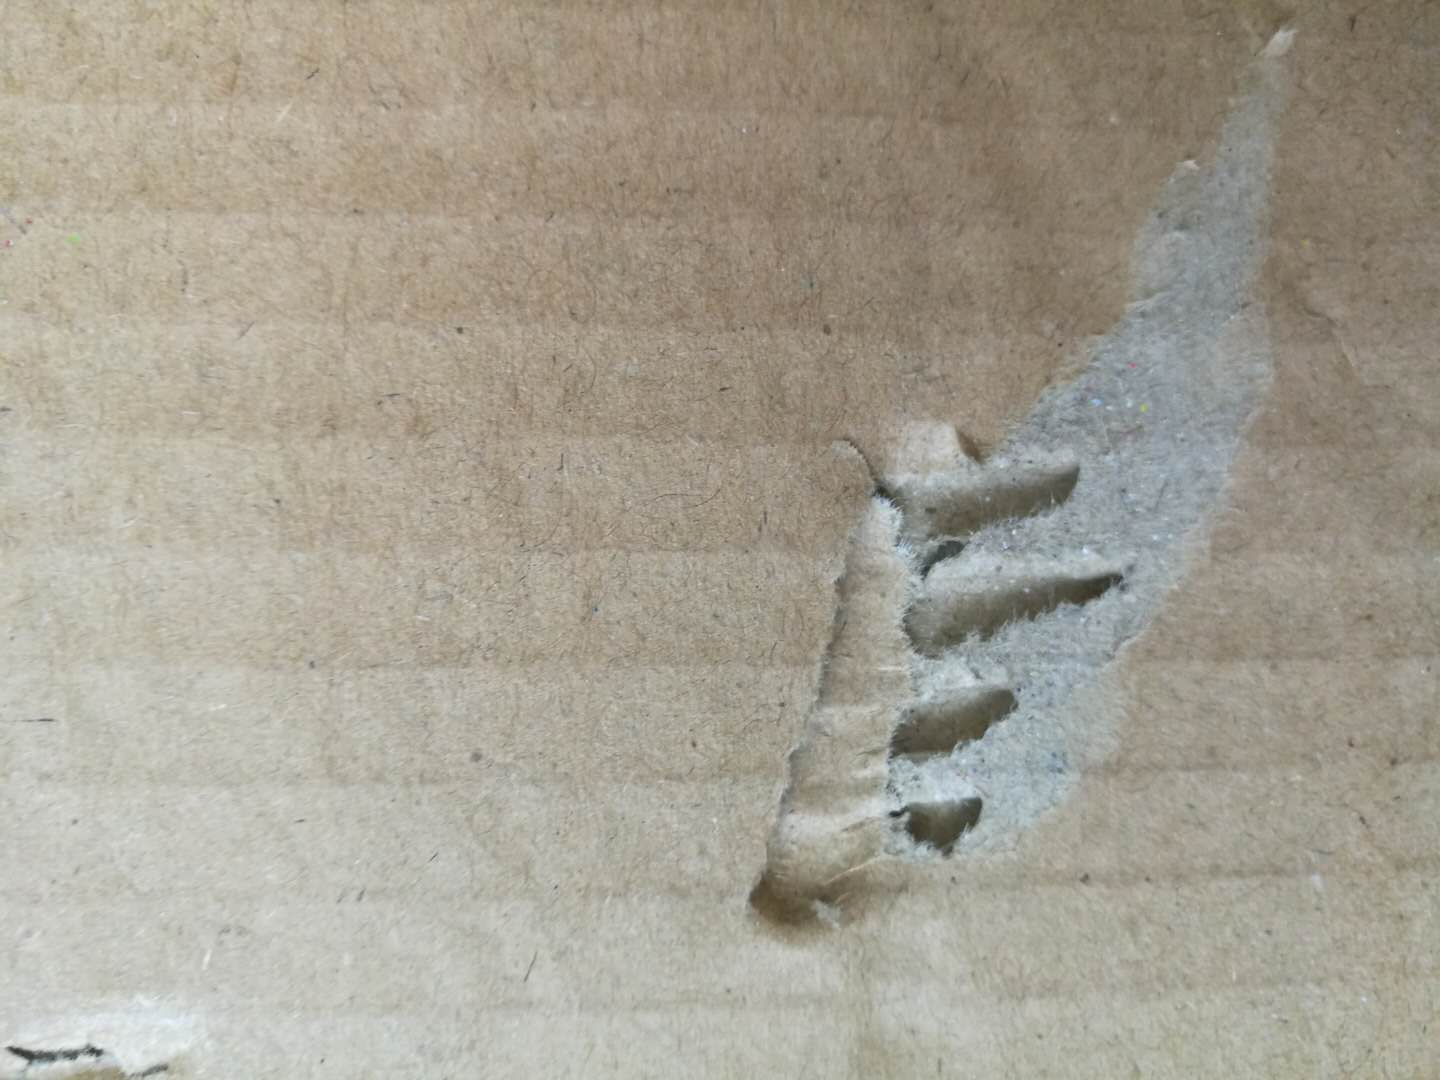defect: (703, 12, 1344, 988), (2, 993, 229, 1080)
